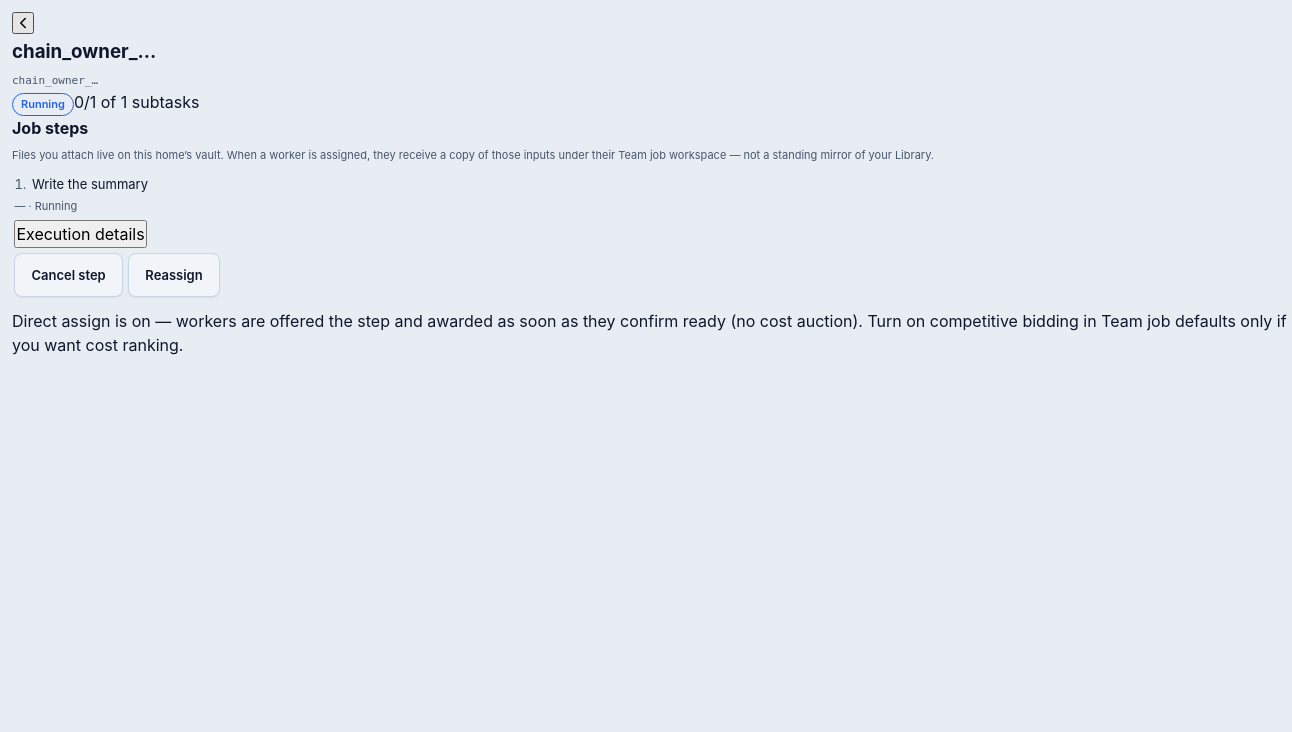
ChainDetailPanel step cancel residual risk › does not toast success when cancelled list omits the subtask
The width and height of the screenshot is (1292, 732).
Step 1. Click the button with test id "chain-step-cancel-sub_1" → (69, 275), box [14,253,123,297]
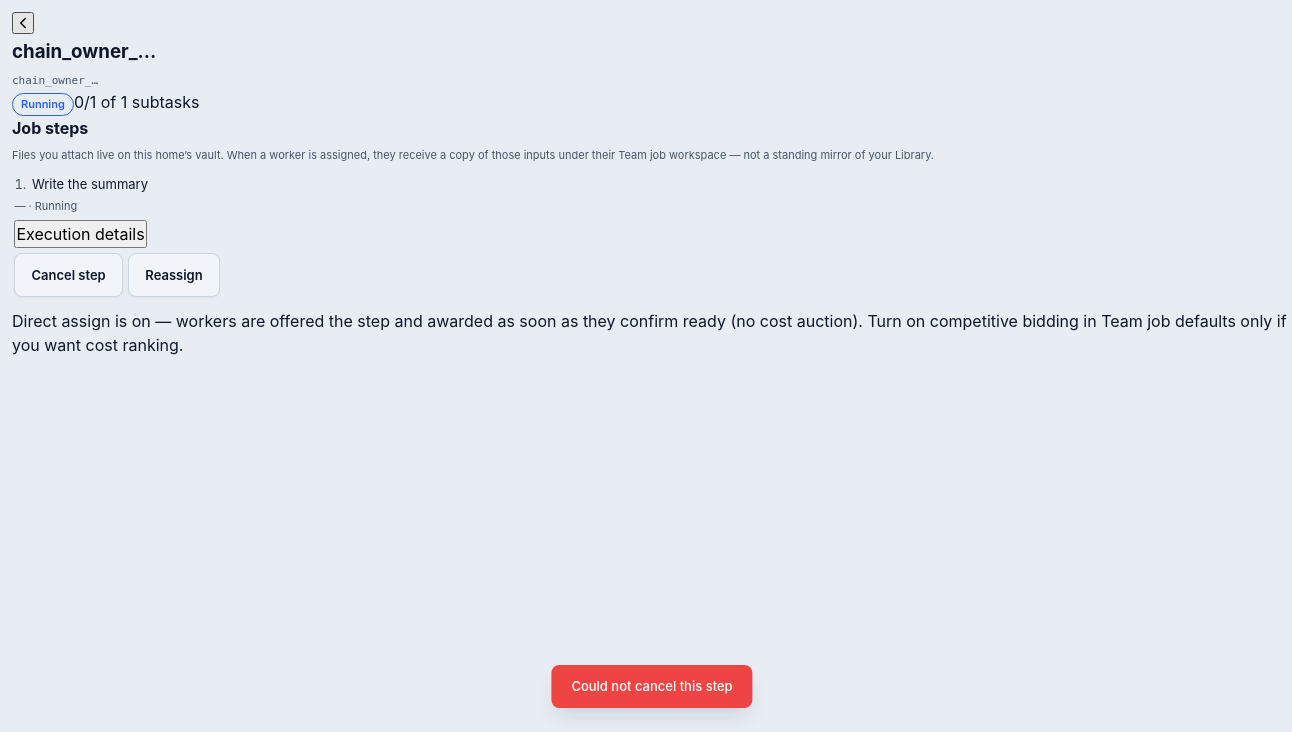
Expected: the text "Could not cancel this step" is shown, [551,664,753,708]
